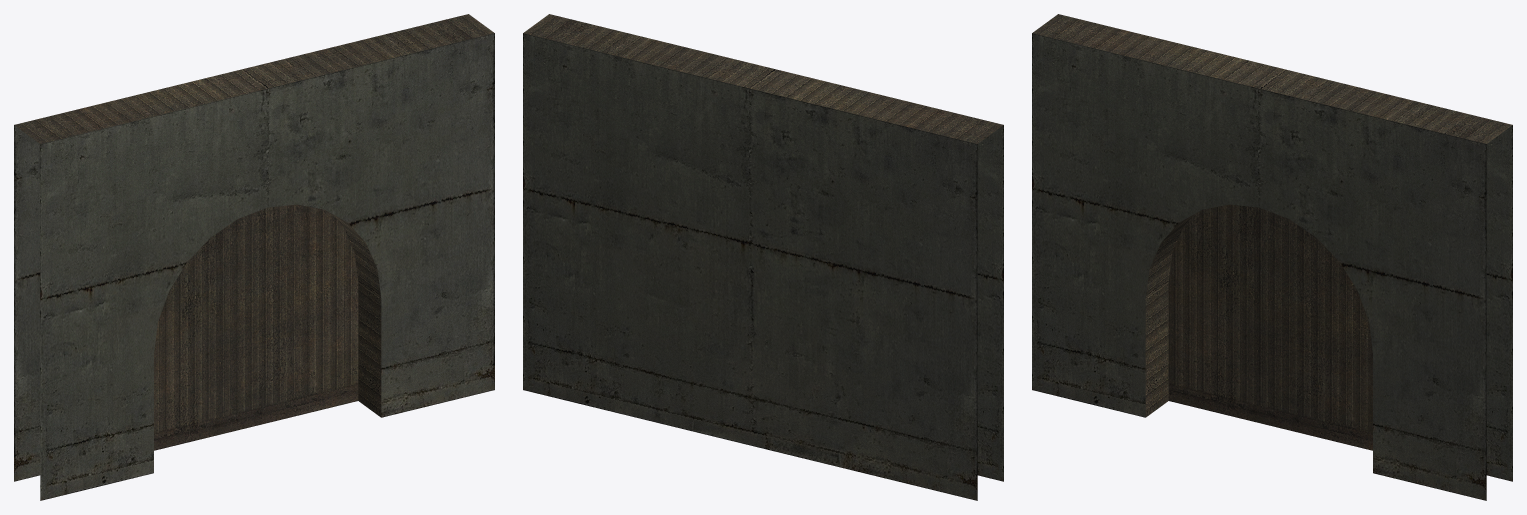
Rendered from wall_rg_15.glb.
3 renders of one model, left to right at view 1: azimuth 30°, elevation 25°; view 2: azimuth 150°, elevation 25°; view 3: azimuth 330°, elevation 25°, orthographic.
Visible parts, largest first — view 1: wall_rg_15; view 2: wall_rg_15; view 3: wall_rg_15.
Part boxes in pixels (left/top/right/bottom): wall_rg_15: left=14, top=14, right=494, bottom=500; wall_rg_15: left=523, top=14, right=1003, bottom=500; wall_rg_15: left=1032, top=14, right=1512, bottom=500.
Bounding box in the file's own units: 4 × 3 × 0.4.
Materials: 2 (2 with a texture image).
